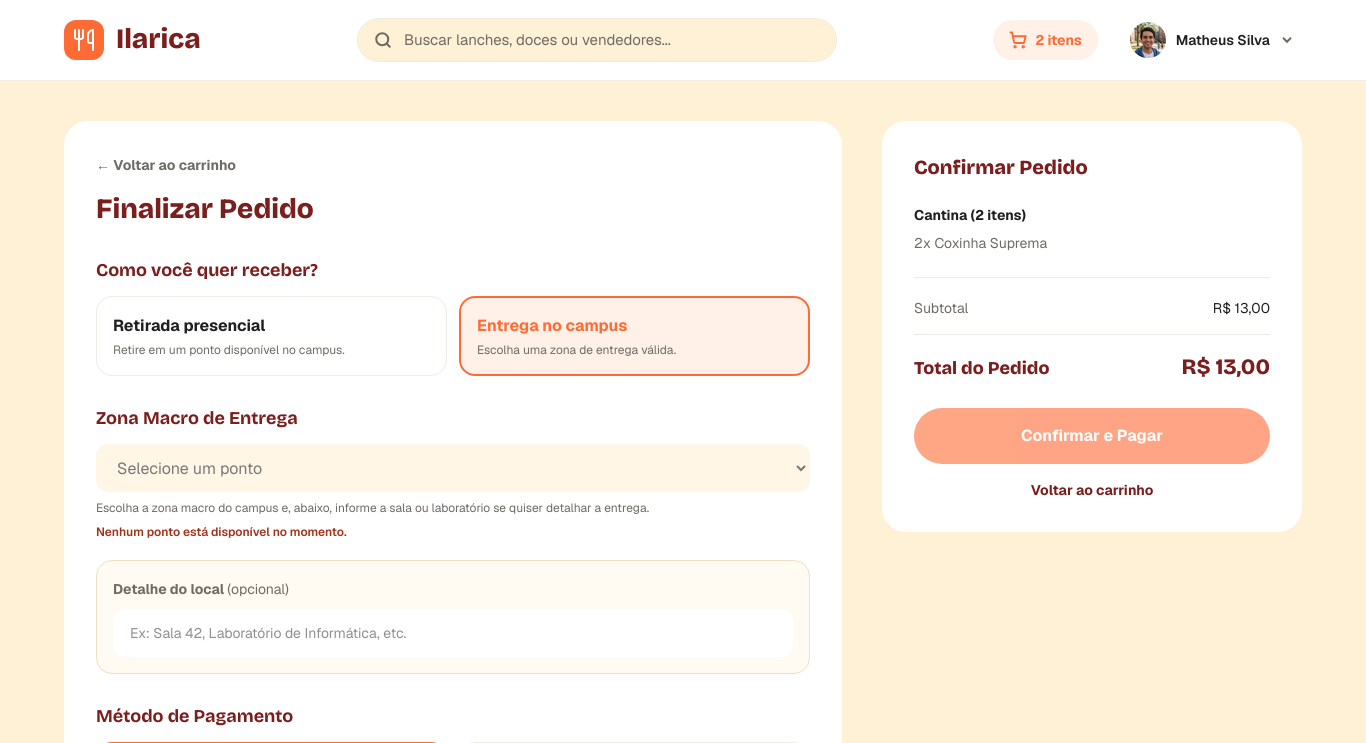
Test: CheckoutPage › allows pickup checkout without a delivery zone
Expected: the text "Nenhum ponto está disponível no momento." is shown, [96, 524, 347, 540]
Click the button "Retirada presencial Retire em um ponto disponível no campus.": click(189, 326) [96, 296, 447, 376]
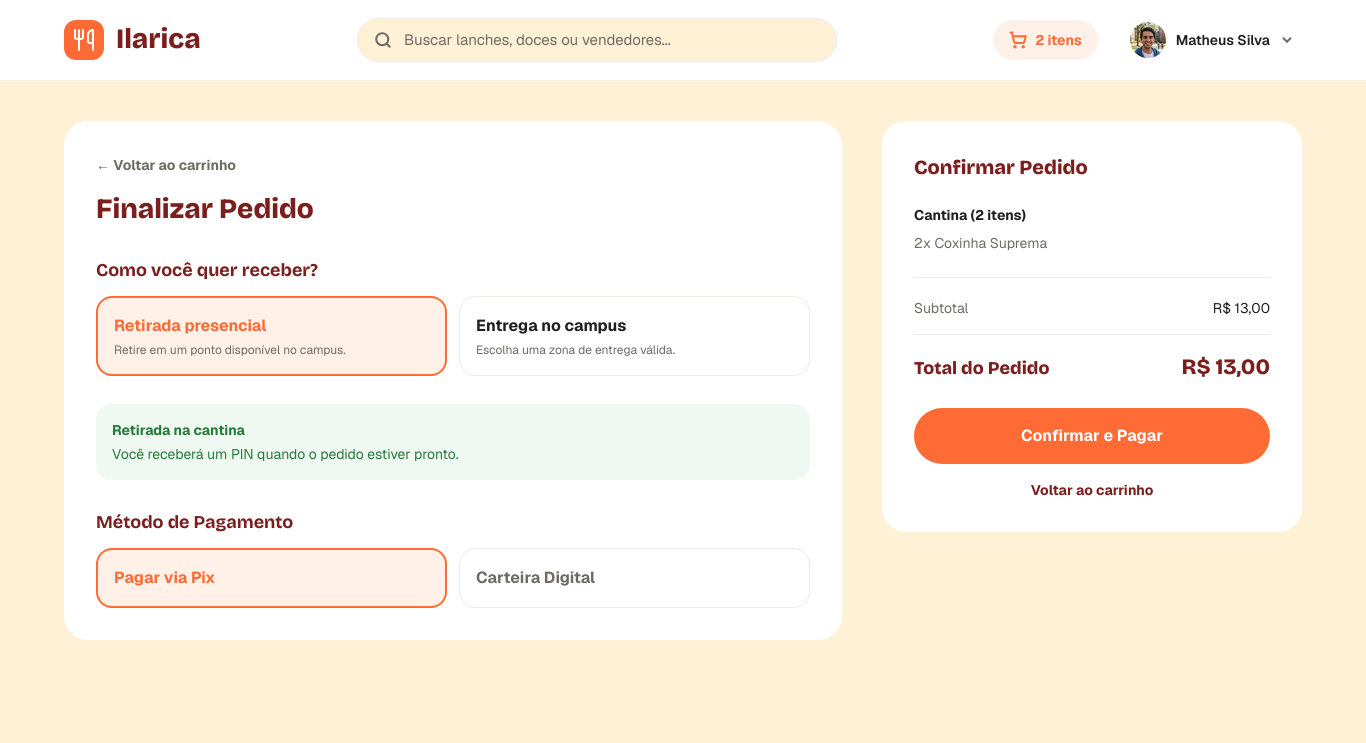
Now the button "Confirmar e Pagar" is enabled, box [914, 408, 1270, 464]
